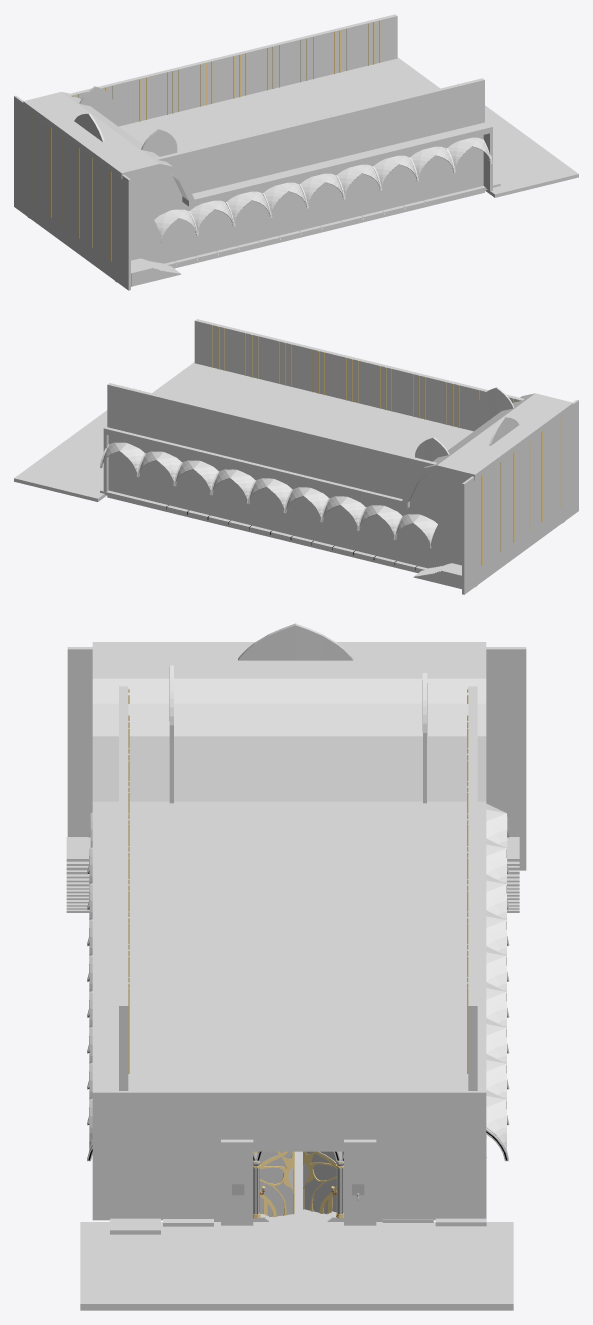
The model's file is Solo leveling5.fbx.
The picture shows the model from 3 angles, top to bottom: view 1: azimuth 30°, elevation 25°; view 2: azimuth 150°, elevation 25°; view 3: azimuth 270°, elevation 25°; orthographic projection. The views are drawn at different scales.
Parts seen in each view (by area): view 1: Cube.176, Cube.224, Cube.014, Cube.022, Cube.035, Cube.003, Cube.070, Cube.017, Cube.163, Cube.140, Cube.015, Cube.225 (+1 smaller); view 2: Cube.014, Cube.224, Cube.176, Cube.022, Cube.027, Cube.003, Cube.068, Cube.140, Cube.017, Cube.163, Cube.051, Cube.011 (+1 smaller); view 3: Cube.224, Cube.003, Cube.022, Cube.027, Cube.176, Cube.014, Cube.056, Cube.004, Cube.017, Cube.005, Cube.001, Cube.002 (+3 smaller).
Boxes of the visible parts, x1,y1,x2,y2 form: Cube.176: (115, 78, 484, 282); Cube.224: (23, 57, 492, 206); Cube.014: (28, 14, 397, 218); Cube.022: (14, 95, 130, 290); Cube.035: (190, 137, 489, 232); Cube.003: (485, 105, 578, 197); Cube.070: (164, 178, 500, 266); Cube.017: (131, 258, 181, 286); Cube.163: (79, 86, 113, 122); Cube.140: (141, 129, 177, 156); Cube.015: (189, 139, 492, 235); Cube.225: (154, 209, 195, 243); Cube.014: (107, 383, 477, 587); Cube.224: (103, 362, 573, 508); Cube.176: (194, 319, 564, 523); Cube.022: (462, 400, 578, 594); Cube.027: (101, 442, 401, 539); Cube.003: (14, 410, 107, 501); Cube.068: (146, 500, 427, 571); Cube.140: (478, 387, 514, 427); Cube.017: (413, 563, 461, 588); Cube.163: (415, 437, 449, 461); Cube.051: (395, 514, 437, 548); Cube.011: (100, 444, 402, 539); Cube.224: (92, 642, 486, 1220); Cube.003: (80, 1222, 513, 1310); Cube.022: (67, 647, 526, 870); Cube.027: (486, 838, 509, 1158); Cube.176: (119, 686, 129, 1090); Cube.014: (467, 686, 477, 1090); Cube.056: (238, 623, 353, 660); Cube.004: (221, 1139, 253, 1225); Cube.017: (66, 837, 519, 912); Cube.005: (344, 1139, 376, 1225); Cube.001: (254, 1151, 294, 1217); Cube.002: (303, 1151, 343, 1214).
Bounding box in the file's own units: 4816 × 1341 × 2109.
